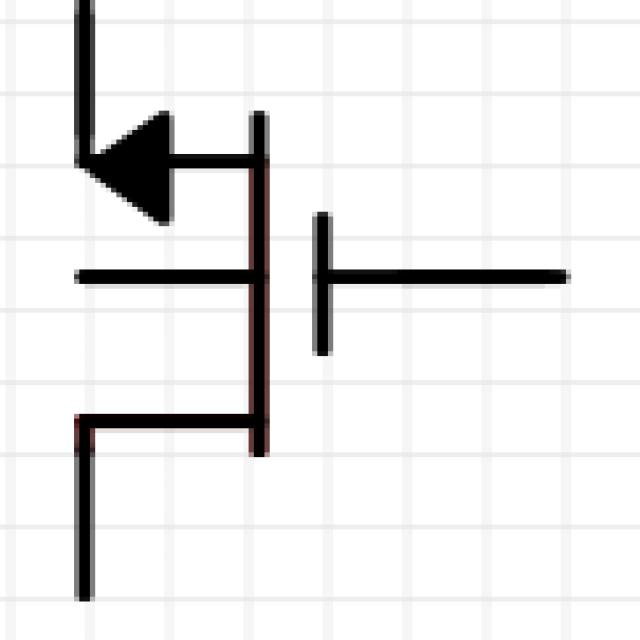pmos: (37, 34, 640, 602)
